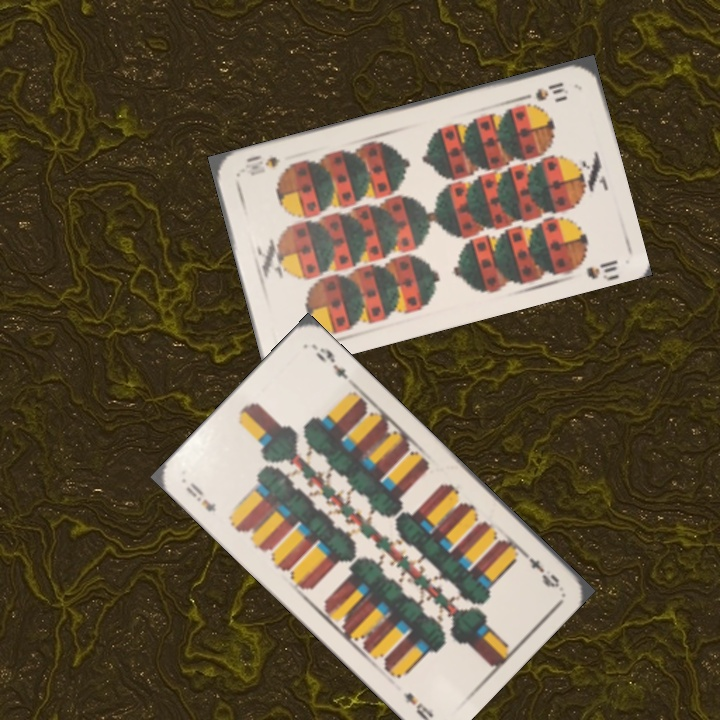E9: (516, 545, 563, 591), (182, 478, 219, 515)
S10: (517, 78, 571, 104)
